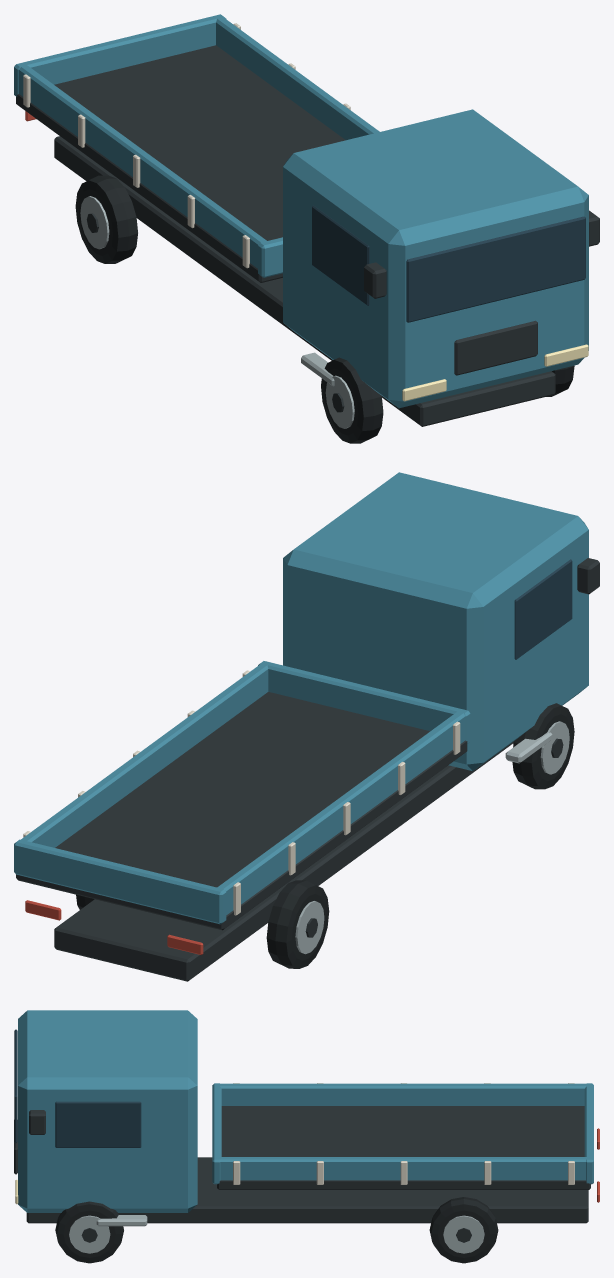
Rendered from truck-flatbed-02.glb.
The picture shows the model from 3 angles, top to bottom: view 1: azimuth 30°, elevation 25°; view 2: azimuth 150°, elevation 25°; view 3: azimuth 270°, elevation 25°; orthographic projection. The views are drawn at different scales.
Visible parts, largest first — view 1: Cab, BedFloor, Glass_Windscreen, Chassis, BedWall, BedEnd.001, BedWall.001, CabWindow, Tyre_RR, Grille, Tyre_FR, Rim_RR (+5 smaller); view 2: Cab, BedFloor, Chassis, BedWall.001, BedEnd.001, BedWall, BedEnd, CabWindow, Tyre_RR, Tyre_FR, Rim_RR, Rim_FR (+2 smaller); view 3: Cab, BedFloor, Chassis, BedWall, BedWall.001, CabWindow.001, Tyre_RL, Tyre_FL, Rim_RL, Rim_FL, BedEnd, BedEnd.001 (+3 smaller).
Part boxes in pixels (x1,y1,x2,y2): Cab: (283, 109, 588, 408); BedFloor: (16, 45, 345, 282); Glass_Windscreen: (406, 216, 585, 322); Chassis: (54, 136, 555, 426); BedWall: (19, 64, 266, 268); BedEnd.001: (14, 14, 226, 96); BedWall.001: (216, 16, 379, 140); CabWindow: (312, 205, 369, 305); Tyre_RR: (75, 175, 137, 263); Grille: (454, 320, 537, 375); Tyre_FR: (321, 357, 383, 443); Rim_RR: (80, 196, 109, 249); Cab: (283, 472, 588, 771); BedFloor: (16, 692, 467, 930); Chassis: (54, 741, 513, 981); BedWall.001: (19, 663, 268, 847); BedEnd.001: (14, 839, 226, 924); BedWall: (217, 711, 465, 914); BedEnd: (258, 661, 470, 743); CabWindow: (514, 559, 572, 659); Tyre_RR: (266, 880, 329, 968); Tyre_FR: (512, 703, 574, 789); Rim_RR: (295, 901, 324, 954); Rim_FR: (540, 721, 569, 774); Cab: (18, 1010, 197, 1212); BedFloor: (217, 1106, 590, 1189); Chassis: (26, 1157, 588, 1223); BedWall: (219, 1083, 588, 1105); BedWall.001: (219, 1157, 587, 1180); CabWindow.001: (55, 1101, 141, 1147); Tyre_RL: (429, 1197, 498, 1263); Tyre_FL: (55, 1201, 123, 1263); Rim_RL: (443, 1215, 484, 1253); Rim_FL: (69, 1215, 110, 1253); BedEnd: (212, 1083, 221, 1184); BedEnd.001: (584, 1083, 593, 1184).
Bounding box in the file's own units: 2.56 × 2.57 × 7.48.
